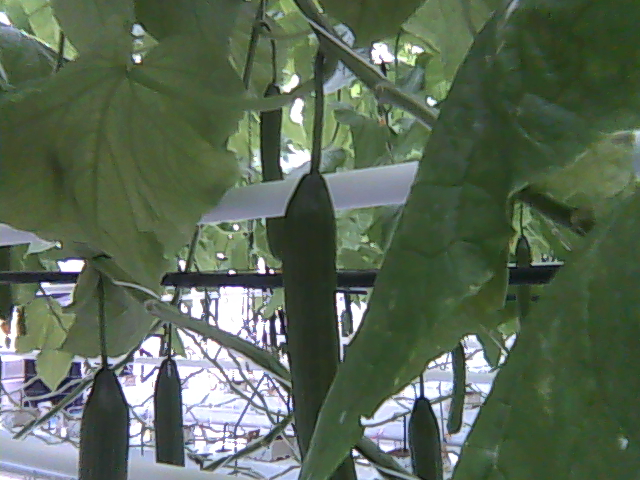concombre: (280, 157, 363, 480), (74, 353, 134, 480)
